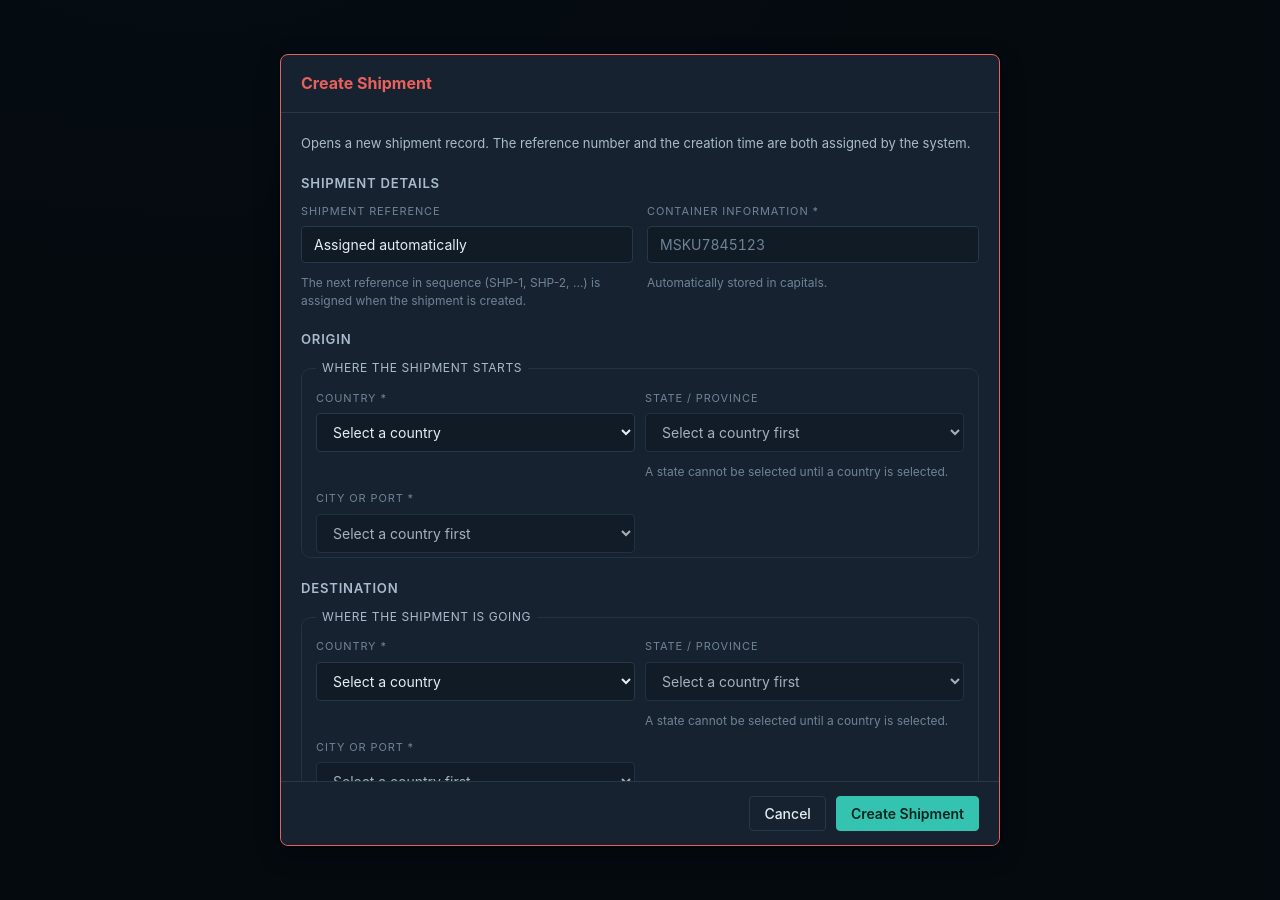
Test: country and state selection › a country with no subdivisions says so instead of demanding one
This screenshot has width=1280, height=900.
Select "Singapore" in the dropdown with id "origin-country" at (476, 433), box [316,413,635,452]
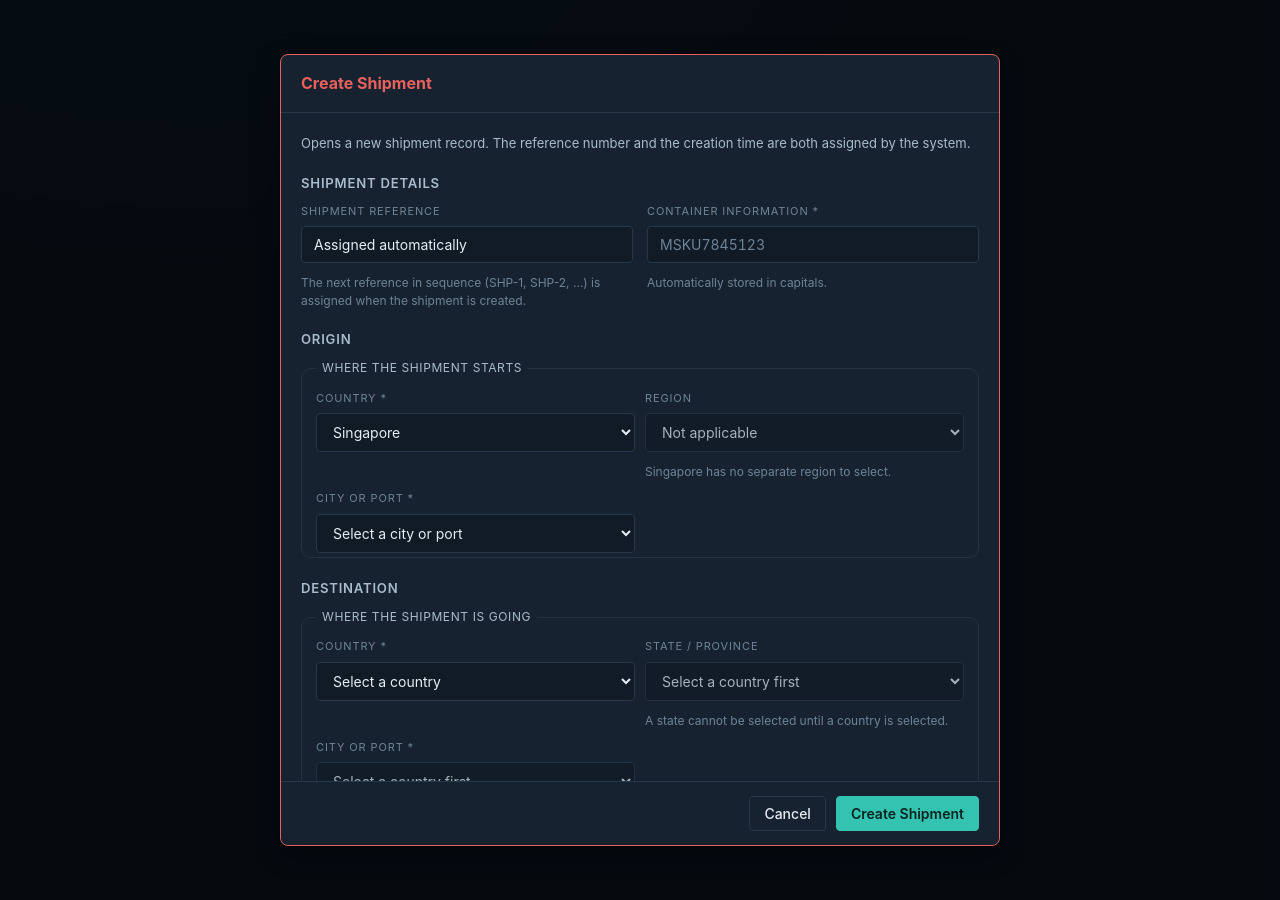
Check: the dropdown with id "origin-state" is disabled, box [645,413,964,452]
Check: the text "Singapore has no separate region to select." is shown, box [645,464,891,479]
